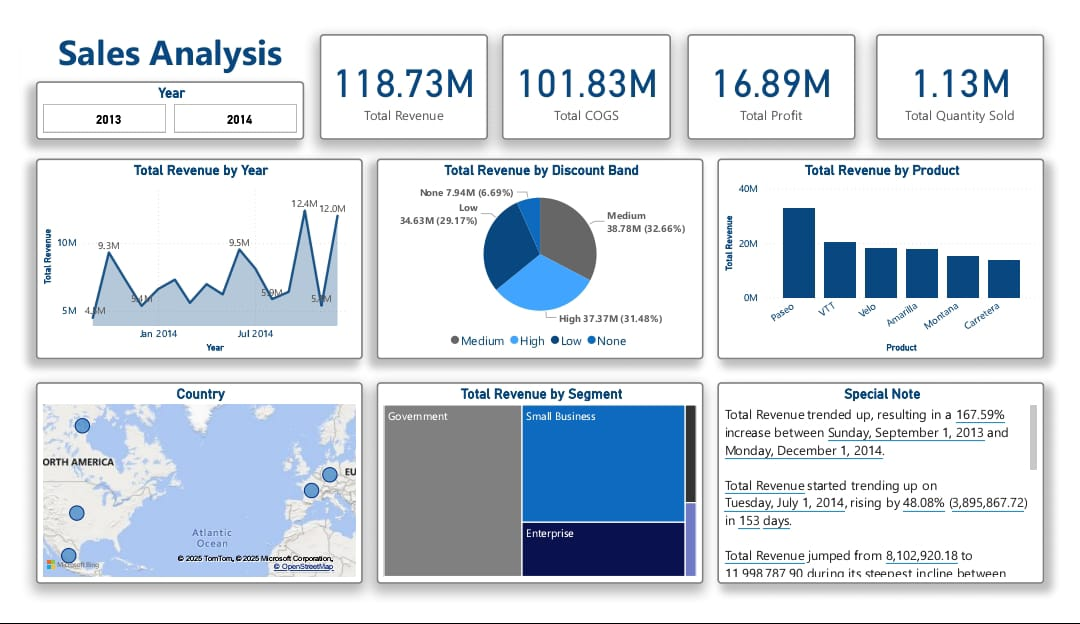

Layout of this report page (visuals, bound fields, positions):
{"tool":"powerbi","page":{"name":"Summary Page","canvas":[1280,720],"ordinal":1},"visuals":[{"type":"textbox","box":[20.2,13,329.8,64.8],"z":0},{"type":"card","fields":{"Values":["financials.Total Revenue"]},"box":[368.6,20.2,207.4,129.6],"z":1000},{"type":"card","fields":{"Values":["financials.Total COGS"]},"box":[593.3,20.2,207.4,129.6],"z":2000},{"type":"card","fields":{"Values":["financials.Total Profit"]},"box":[820.8,20.2,207.4,129.6],"z":3000},{"type":"card","fields":{"Values":["financials.Total Quantity Sold"]},"box":[1052.6,20.2,207.4,129.6],"z":4000},{"type":"lineChart","title":"Total Revenue by Date","fields":{"Category":["financials.Date.Variation.Date Hierarchy.Year","financials.Date.Variation.Date Hierarchy.Quarter","financials.Date.Variation.Date Hierarchy.Month","financials.Date.Variation.Date Hierarchy.Day"],"Y":["financials.Total Revenue"]},"box":[20.2,172.8,401.8,247.7],"z":5000},{"type":"map","fields":{"Category":["financials.Country"]},"box":[20.2,447.8,401.8,247.7],"z":6000},{"type":"columnChart","fields":{"Category":["financials.Product"],"Y":["financials.Total Revenue"]},"box":[858.2,172.8,401.8,247.7],"z":7000},{"type":"pieChart","fields":{"Category":["financials.Discount Band"],"Y":["financials.Total Revenue"]},"box":[439.2,172.8,401.8,247.7],"z":8000},{"type":"treemap","fields":{"Group":["financials.Segment"],"Values":["financials.Total Revenue"]},"box":[439,448,402,248],"z":9000},{"type":"textbox","title":"Special Note","box":[858,448,402,248],"z":10000},{"type":"advancedSlicerVisual","fields":{"Values":["financials.Date.Variation.Date Hierarchy.Year"]},"box":[20.2,77.8,329.8,72],"z":11000}]}

Visuals, with their boxes in screenshot pixels (x1, y1, x2, y2), scaled from the page's 1280x720 canvas onto the 1080x624 screenshot:
textbox: l=17, t=11, r=295, b=67
card - financials.Total Revenue: l=311, t=18, r=486, b=130
card - financials.Total COGS: l=501, t=18, r=676, b=130
card - financials.Total Profit: l=693, t=18, r=868, b=130
card - financials.Total Quantity Sold: l=888, t=18, r=1063, b=130
"Total Revenue by Date" lineChart: l=17, t=150, r=356, b=364
map - financials.Country: l=17, t=388, r=356, b=603
columnChart - financials.Product x financials.Total Revenue: l=724, t=150, r=1063, b=364
pieChart - financials.Discount Band x financials.Total Revenue: l=371, t=150, r=710, b=364
treemap - financials.Segment x financials.Total Revenue: l=370, t=388, r=710, b=603
"Special Note" textbox: l=724, t=388, r=1063, b=603
advancedSlicerVisual - financials.Date.Variation.Date Hierarchy.Year: l=17, t=67, r=295, b=130
